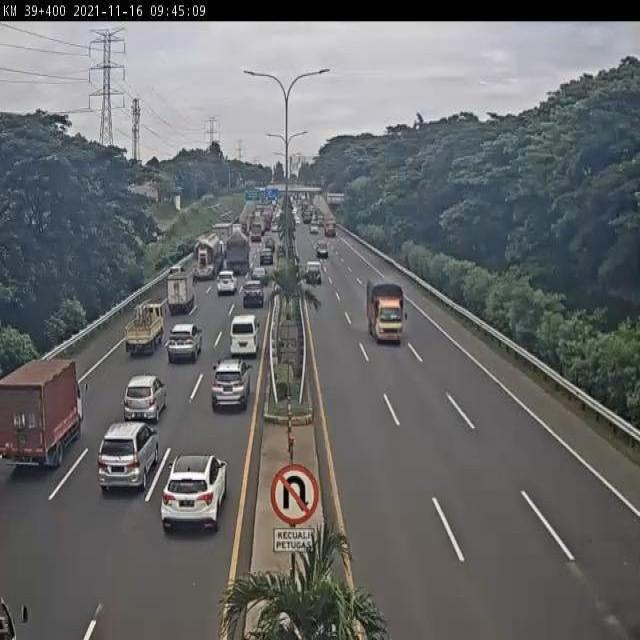car: (161, 456, 229, 531), (98, 420, 159, 488), (211, 358, 253, 410), (125, 376, 168, 417), (166, 327, 200, 363), (242, 281, 263, 307), (248, 264, 270, 288), (217, 268, 238, 293)
truck: (0, 360, 84, 467), (367, 279, 406, 347), (124, 304, 166, 355), (167, 273, 198, 316), (193, 234, 222, 278), (225, 231, 252, 273), (231, 319, 258, 357)
